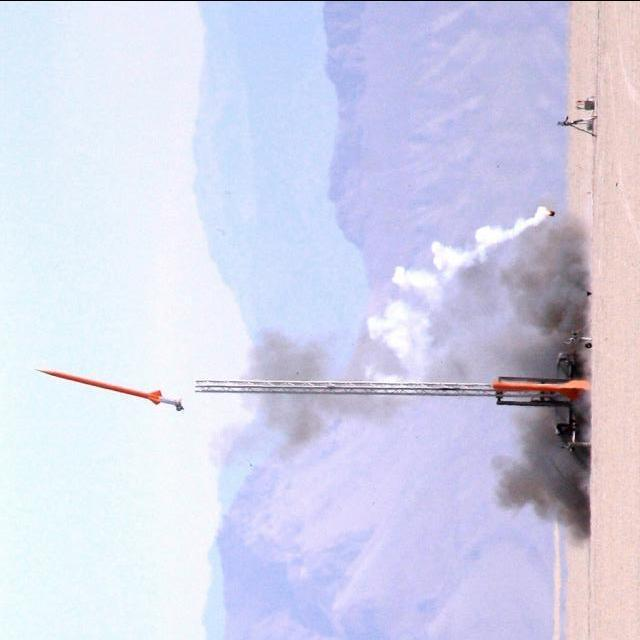Missile: (32, 365, 185, 412)
